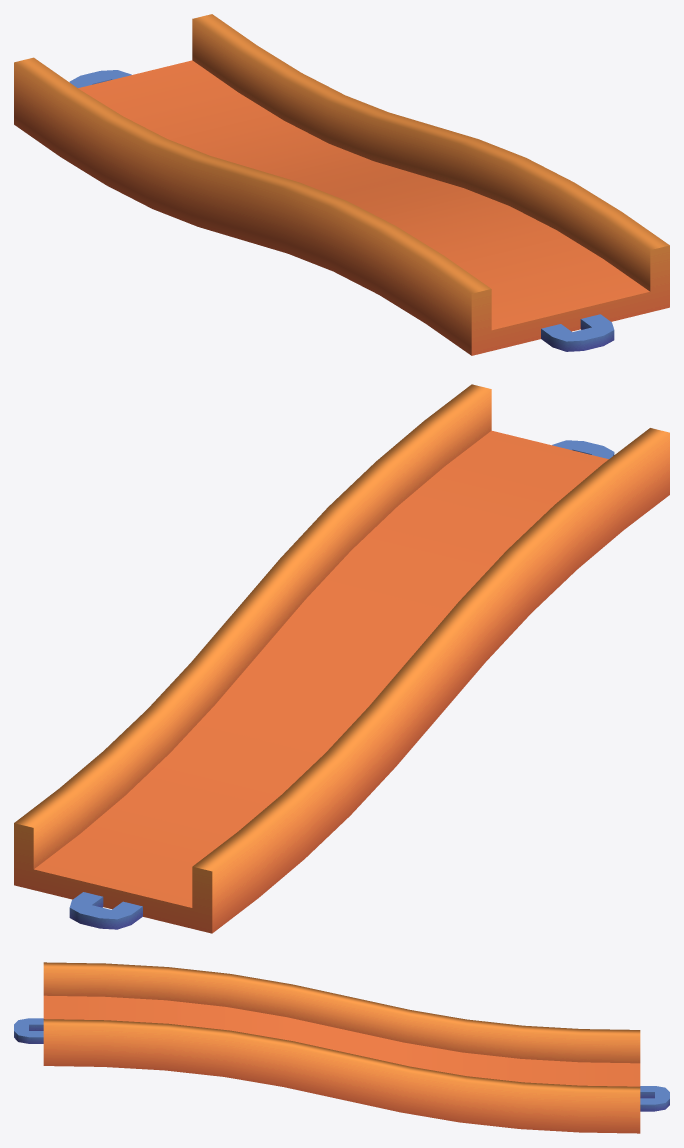
File: track-narrow-straight-hill-complete-half.glb
3 views of the same model, one above another, from view 1: azimuth 30°, elevation 25°; view 2: azimuth 150°, elevation 25°; view 3: azimuth 270°, elevation 25° (orthographic). The views are drawn at different scales.
Visible parts, largest first — view 1: track-narrow-straight-hill-complete-half; view 2: track-narrow-straight-hill-complete-half; view 3: track-narrow-straight-hill-complete-half.
Part boxes in pixels (x1,y1,x2,y2): track-narrow-straight-hill-complete-half: (14,14,669,355); track-narrow-straight-hill-complete-half: (14,384,669,933); track-narrow-straight-hill-complete-half: (14,962,669,1133).
Size of the model in its own units: 1 by 0.8 by 4.4.
1 material, 1 textured.
